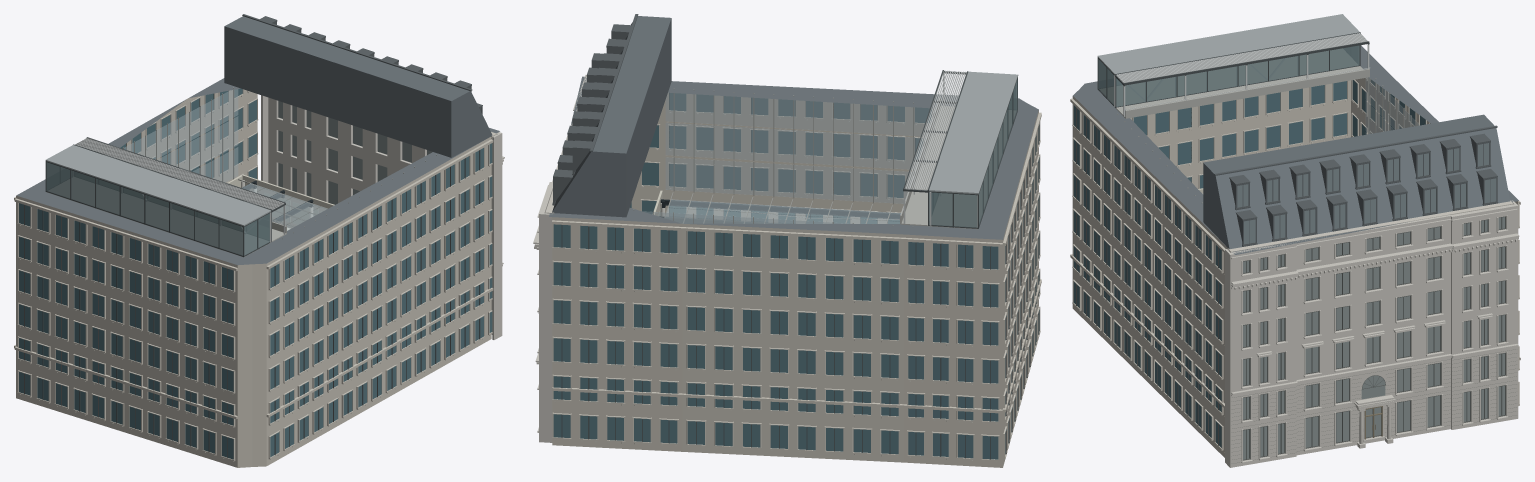
Rendered from ckk-exterior-29a046770e32.glb.
3 views of the same model, side by side, from view 1: azimuth 30°, elevation 25°; view 2: azimuth 150°, elevation 25°; view 3: azimuth 270°, elevation 25° (orthographic). The views are drawn at different scales.
Visible parts, largest first — view 1: CKK.001; view 2: CKK.001; view 3: CKK.001.
Part boxes in pixels (box(x1,y1,x2,y2)): CKK.001: box(14, 14, 504, 467); CKK.001: box(533, 14, 1041, 467); CKK.001: box(1070, 14, 1520, 467).
Size of the model in its own units: 56.1 by 32.3 by 47.89.
